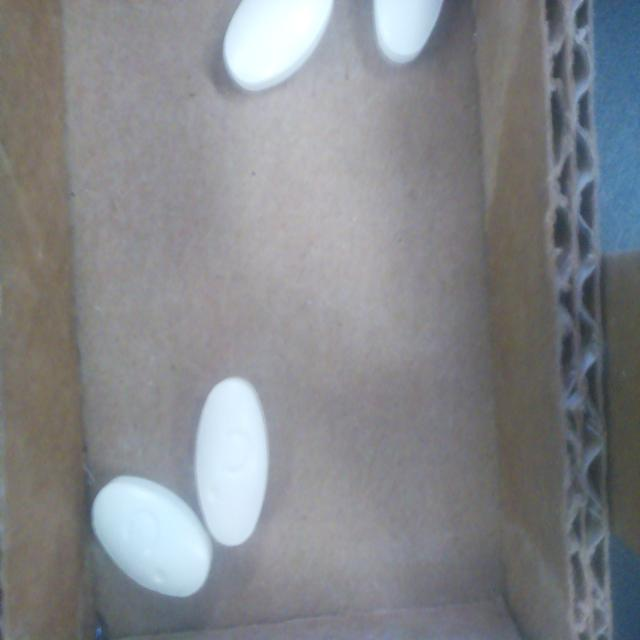pill: (91, 476, 212, 597), (195, 378, 269, 546), (223, 0, 333, 91), (373, 0, 443, 64)
